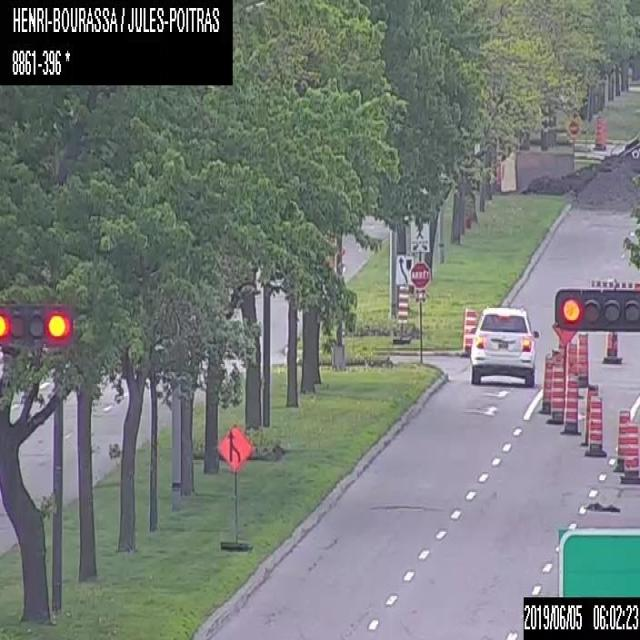construction: (215, 424, 252, 550), (584, 395, 606, 457), (558, 376, 580, 434), (612, 409, 632, 471), (619, 424, 639, 484), (551, 320, 577, 364), (581, 384, 599, 446), (547, 363, 564, 424), (566, 343, 582, 397), (575, 332, 589, 386), (461, 305, 477, 352), (538, 357, 551, 414), (603, 329, 622, 363), (592, 115, 605, 149)
vehicle: (468, 306, 538, 384)
